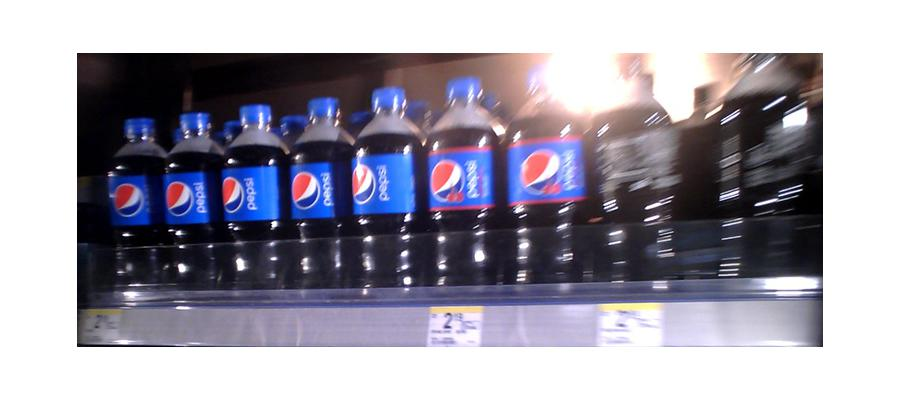bottle: (503, 90, 587, 282), (421, 80, 499, 282), (347, 90, 416, 285), (284, 99, 346, 292), (218, 102, 281, 283), (103, 116, 161, 292), (161, 110, 218, 285)
